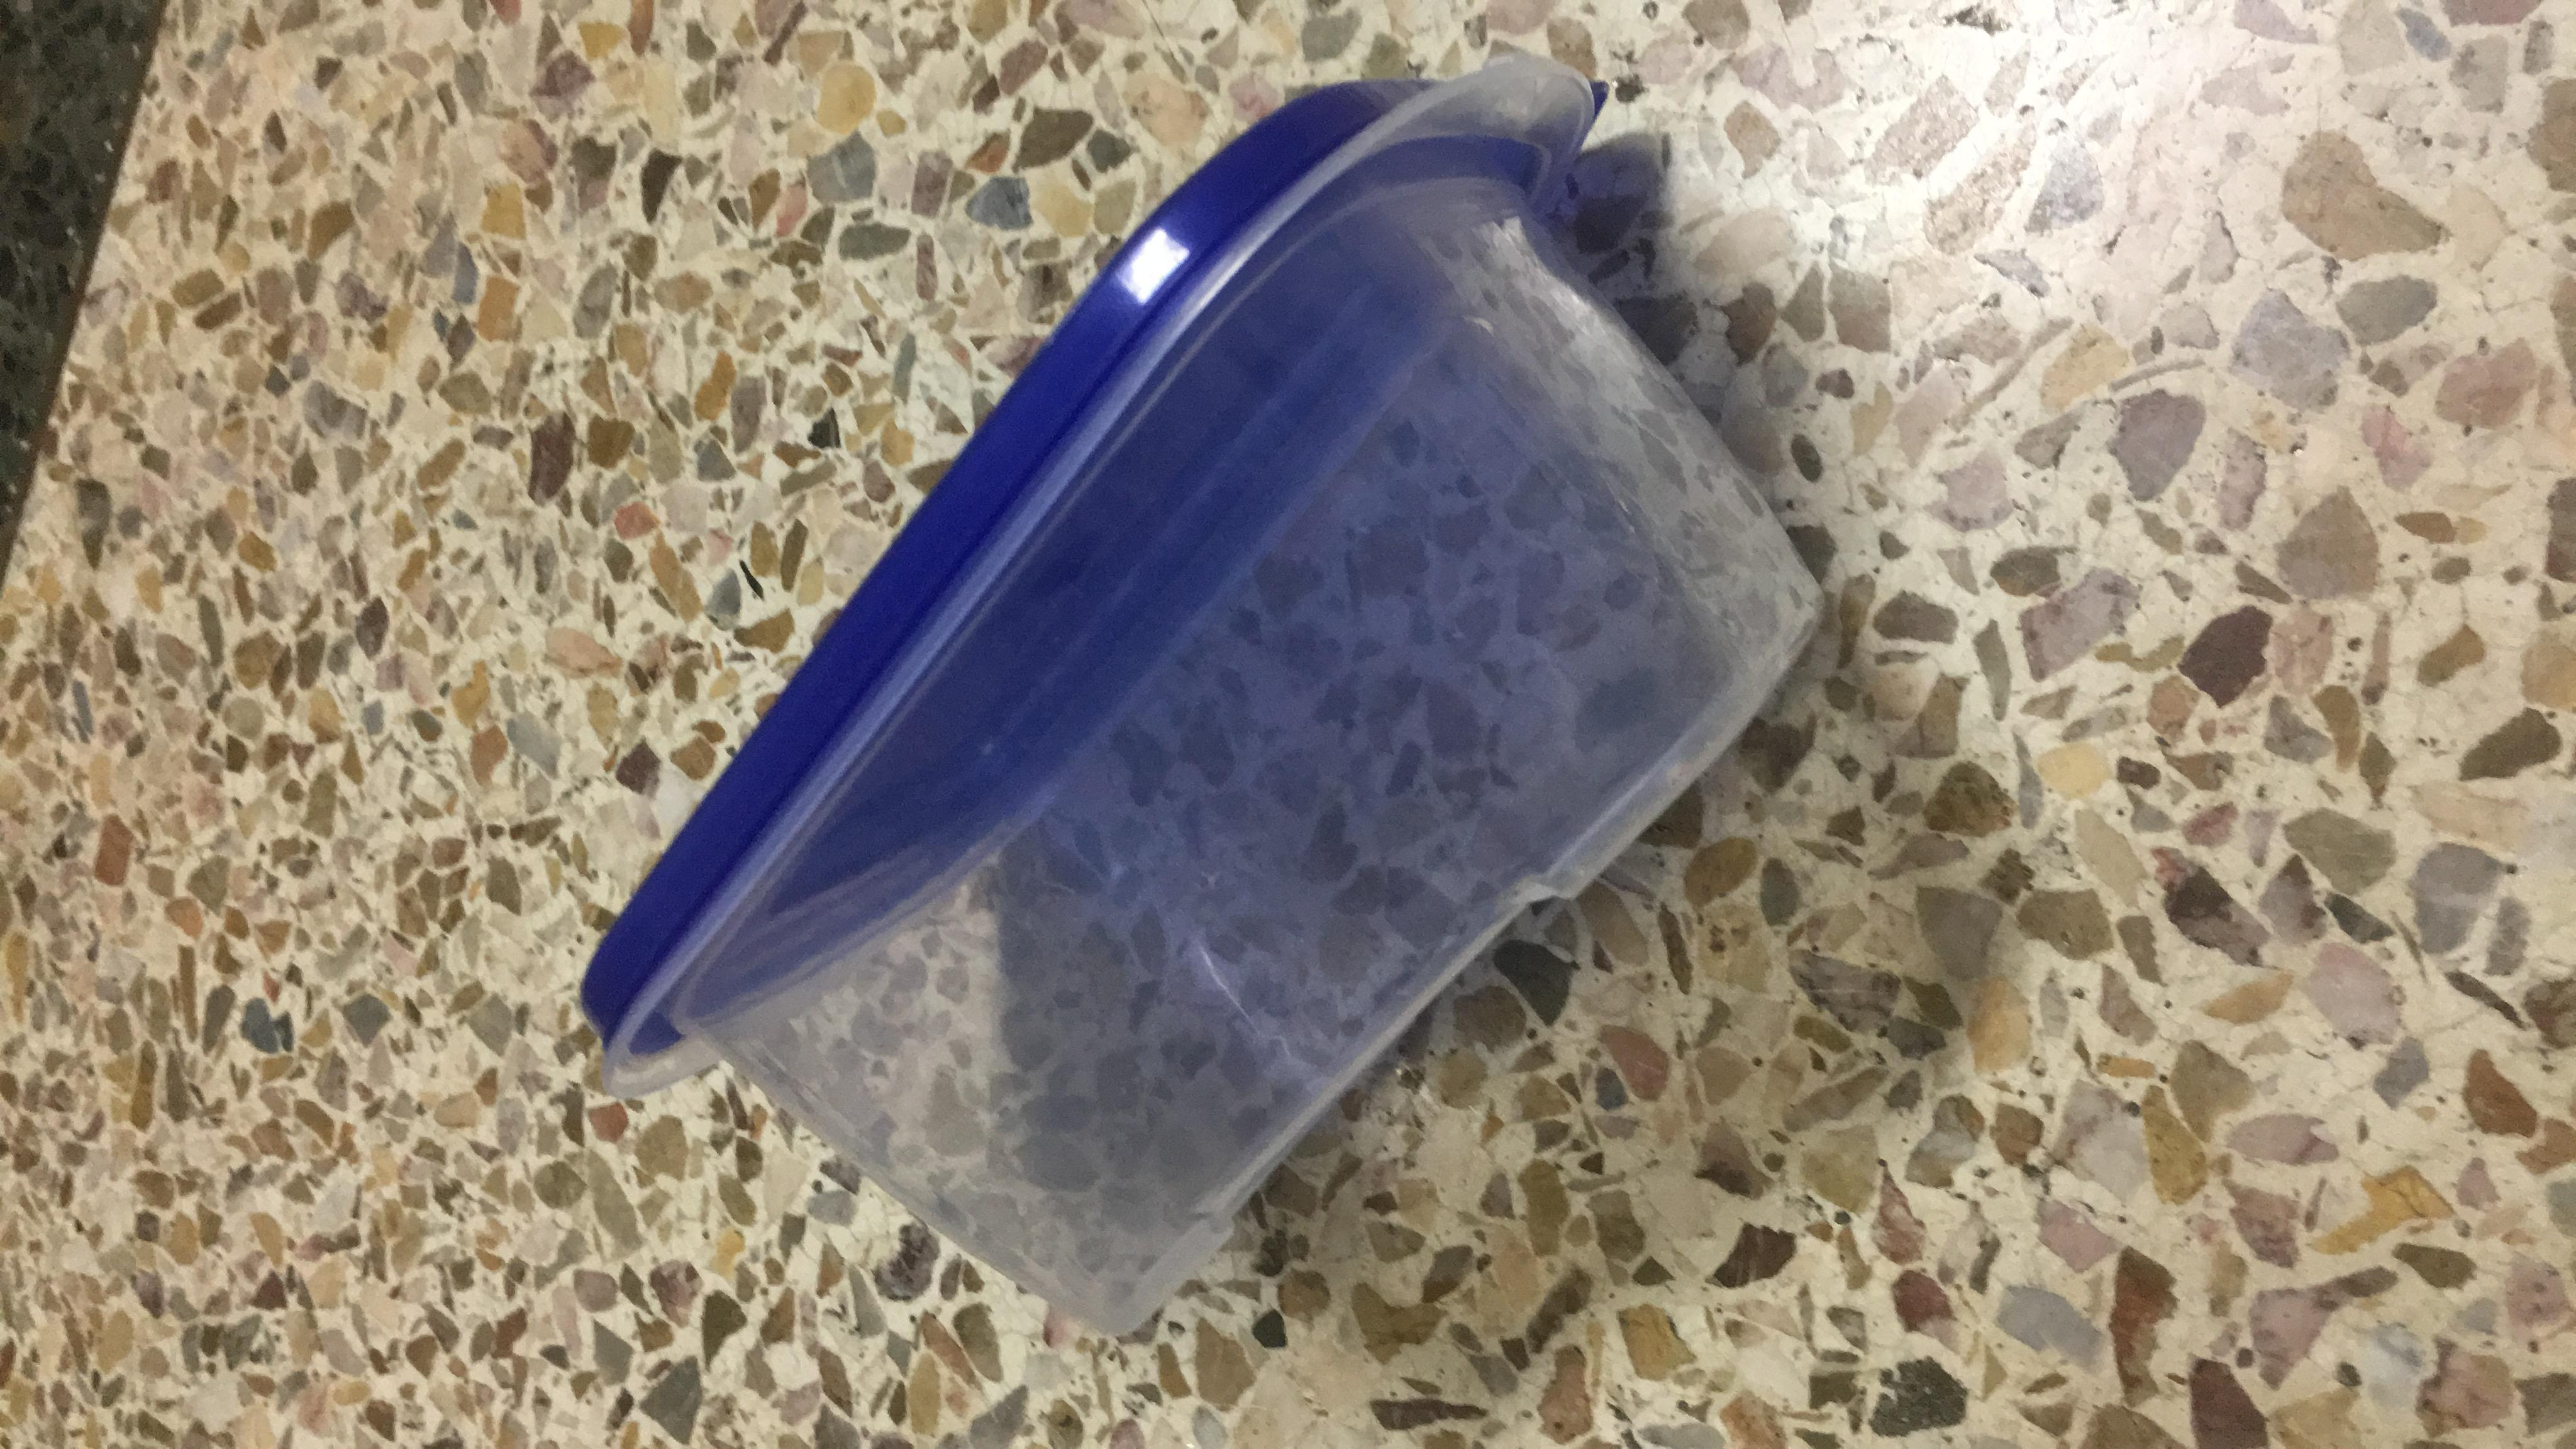bottle: (172, 180, 2519, 985)
